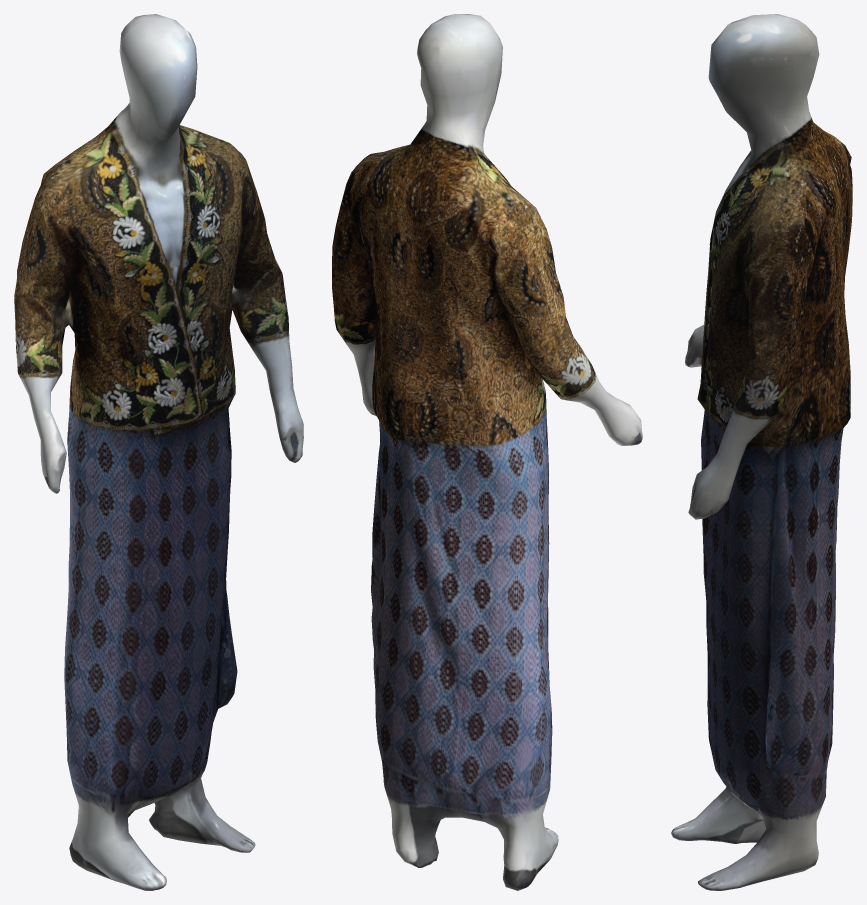
The model's file is Meeta_Fauzan_Difabel_Quais_Outer_Batik_bordir.glb.
3 renders of one model, left to right at view 1: azimuth 30°, elevation 25°; view 2: azimuth 150°, elevation 25°; view 3: azimuth 270°, elevation 25°, orthographic. The views are drawn at different scales.
Visible parts, largest first — view 1: Outer Batik bordir - Ver AR; view 2: Outer Batik bordir - Ver AR; view 3: Outer Batik bordir - Ver AR.
Part boxes in pixels (bbox=[...]): Outer Batik bordir - Ver AR: bbox=[14, 14, 303, 890]; Outer Batik bordir - Ver AR: bbox=[332, 14, 642, 890]; Outer Batik bordir - Ver AR: bbox=[671, 14, 852, 890].
Size of the model in its own units: 0.3367 by 0.9971 by 0.1931.
Materials: 1 (1 with a texture image).
